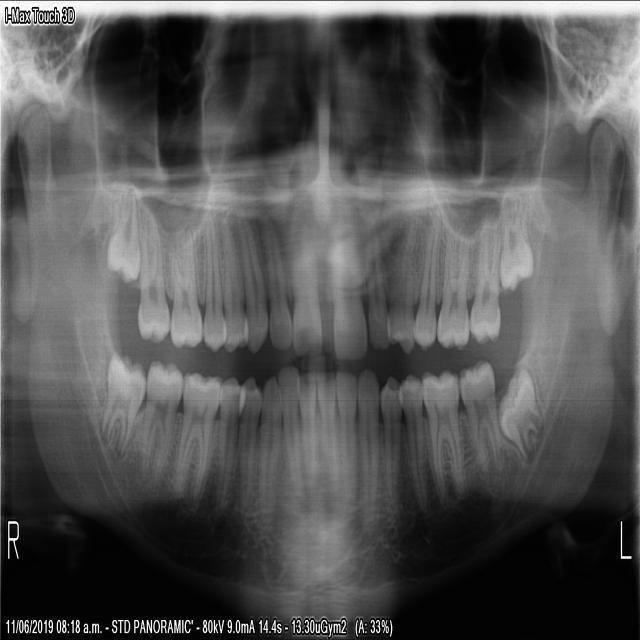LCD: (353, 361, 379, 539)
LCU: (384, 220, 416, 357)
LID: (335, 366, 358, 504), (316, 367, 337, 495)
LIU: (330, 238, 367, 360), (362, 238, 388, 350)
LMD: (457, 357, 515, 479), (418, 360, 464, 507), (496, 358, 542, 462)
LMU: (467, 223, 502, 346), (497, 191, 533, 294)
LPMD: (396, 371, 427, 519), (378, 370, 401, 520)
LPMU: (434, 227, 470, 350), (412, 220, 443, 350)
RCD: (256, 373, 282, 512)
RCU: (235, 222, 268, 355)
RID: (275, 363, 305, 496), (295, 360, 319, 478)
RIU: (259, 220, 292, 352), (291, 231, 322, 355)
RMD: (171, 370, 222, 502), (97, 343, 147, 462), (139, 354, 183, 481)
RMU: (134, 212, 170, 345), (167, 228, 202, 349), (102, 186, 138, 287)
RPMD: (213, 374, 245, 527), (236, 376, 260, 515)
RPMU: (220, 220, 247, 353), (202, 219, 225, 352)
